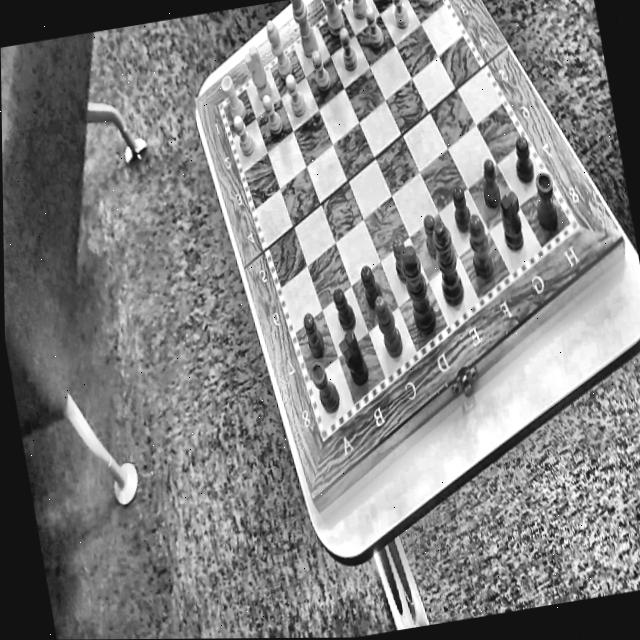chessboard: (222, 0, 568, 425)
